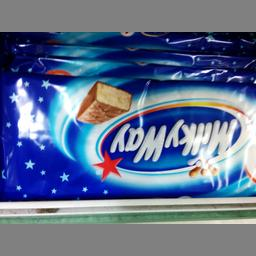chocolate: (1, 71, 254, 199)
